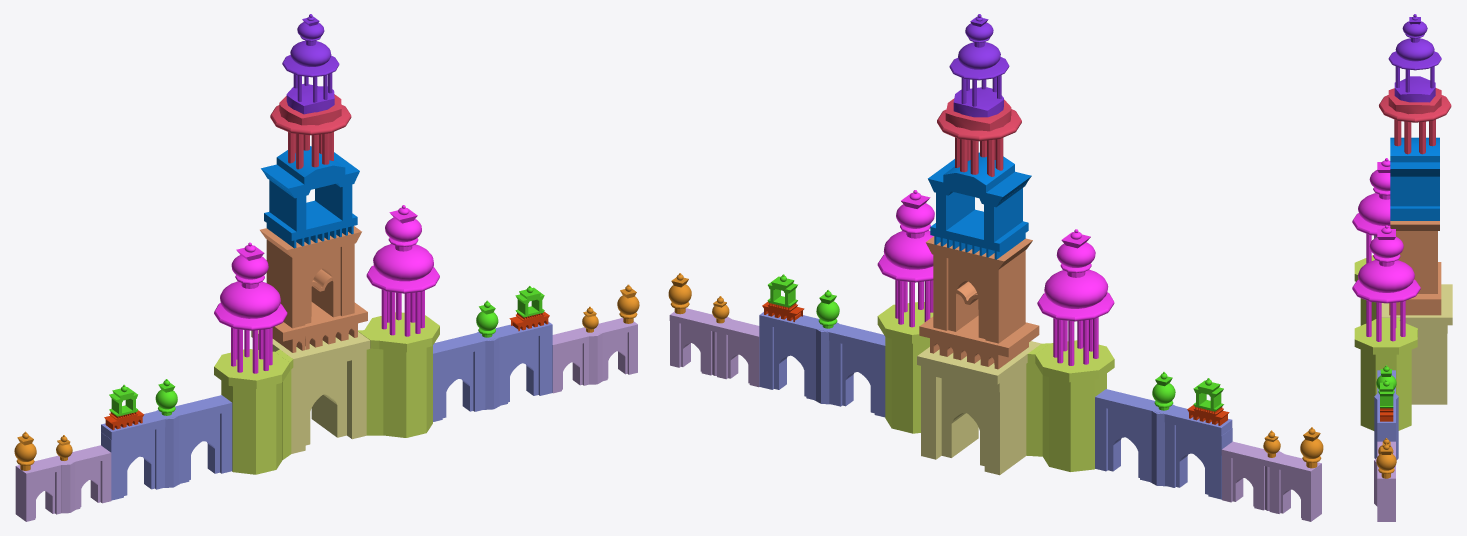
Rendered from FinalCastleRevisedUV2.fbx.
The picture shows the model from 3 angles, left to right: view 1: azimuth 30°, elevation 25°; view 2: azimuth 150°, elevation 25°; view 3: azimuth 270°, elevation 25°; orthographic projection. The views are drawn at different scales.
Visible parts, largest first — view 1: pCylinder54, pCylinder54.001, MainTowerGate, pCube7, MainTowerGate6, pCylinder55, pSphere5.001, pSphere5, pCylinder55.001, pCube2, pCube70.001, pCube20 (+33 smaller); view 2: pCylinder54, pCube1, pCylinder54.001, pCube7, MainTowerGate, MainTowerGate6, pCube41, pCylinder55, pCube4, pSphere5, pCube2, pCube20 (+39 smaller); view 3: pCylinder54.001, pCube2, pCube8, pCylinder55.001, pCube22, pSphere5.001, pCube4, pCube27, pSphere5, pCube29, pCylinder27.001, pCylinder10 (+36 smaller).
Boxes of the visible parts, bbox=[...] form: pCylinder54: bbox=[221, 380, 282, 474]; pCylinder54.001: bbox=[383, 346, 432, 437]; MainTowerGate: bbox=[305, 361, 346, 445]; pCube7: bbox=[266, 239, 305, 328]; MainTowerGate6: bbox=[305, 247, 340, 323]; pCylinder55: bbox=[214, 349, 289, 388]; pSphere5.001: bbox=[373, 244, 433, 281]; pSphere5: bbox=[220, 281, 280, 318]; pCylinder55.001: bbox=[364, 312, 439, 352]; pCube2: bbox=[347, 356, 366, 439]; pCube70.001: bbox=[366, 348, 383, 435]; pCube20: bbox=[264, 200, 357, 240]; pCylinder54: bbox=[1042, 373, 1106, 471]; pCube1: bbox=[984, 373, 1026, 475]; pCylinder54.001: bbox=[885, 337, 929, 433]; pCube7: bbox=[985, 250, 1025, 343]; MainTowerGate: bbox=[941, 378, 984, 465]; MainTowerGate6: bbox=[948, 258, 985, 338]; pCube41: bbox=[919, 315, 1039, 357]; pCylinder55: bbox=[1035, 340, 1114, 382]; pCube4: bbox=[917, 341, 1041, 384]; pSphere5: bbox=[1044, 269, 1108, 308]; pCube2: bbox=[921, 373, 941, 459]; pCube20: bbox=[930, 209, 1028, 251]; pCylinder54.001: bbox=[1360, 349, 1411, 430]; pCube2: bbox=[1411, 333, 1447, 404]; pCube8: bbox=[1396, 231, 1437, 293]; pCylinder55.001: bbox=[1354, 320, 1417, 354]; pCube22: bbox=[1390, 176, 1439, 206]; pSphere5.001: bbox=[1358, 260, 1414, 292]; pCube4: bbox=[1381, 284, 1452, 325]; pCube27: bbox=[1390, 138, 1439, 162]; pSphere5: bbox=[1358, 193, 1390, 225]; pCube29: bbox=[1394, 76, 1435, 102]; pCylinder27.001: bbox=[1352, 279, 1420, 303]; pCylinder10: bbox=[1379, 95, 1451, 122].
Bounding box in the file's own units: 1300 × 834 × 203.
